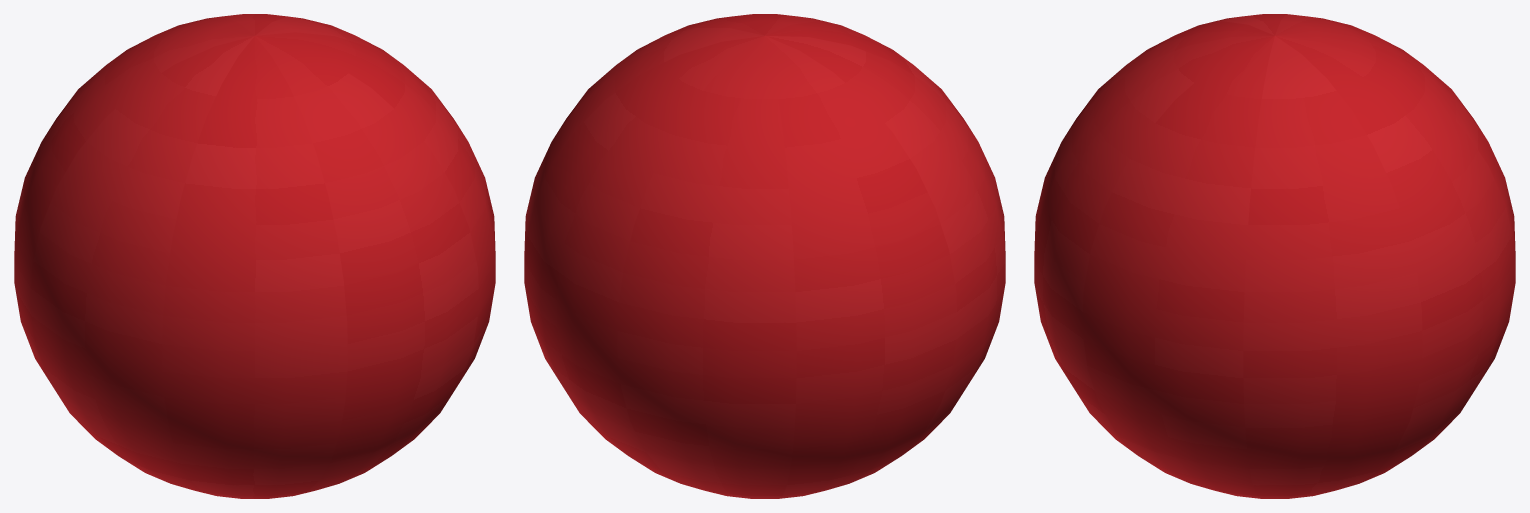
The model's file is bollard_sphere.obj.
The picture shows the model from 3 angles, left to right: view 1: azimuth 30°, elevation 25°; view 2: azimuth 150°, elevation 25°; view 3: azimuth 270°, elevation 25°; orthographic projection.
Parts seen in each view (by area): view 1: bollard_sphere; view 2: bollard_sphere; view 3: bollard_sphere.
Boxes of the visible parts, box(x1,y1,x2,y2) form: bollard_sphere: box(14, 14, 495, 498); bollard_sphere: box(524, 14, 1005, 498); bollard_sphere: box(1034, 14, 1515, 498).
Bounding box in the file's own units: 0.8412 × 0.8375 × 0.8412.
